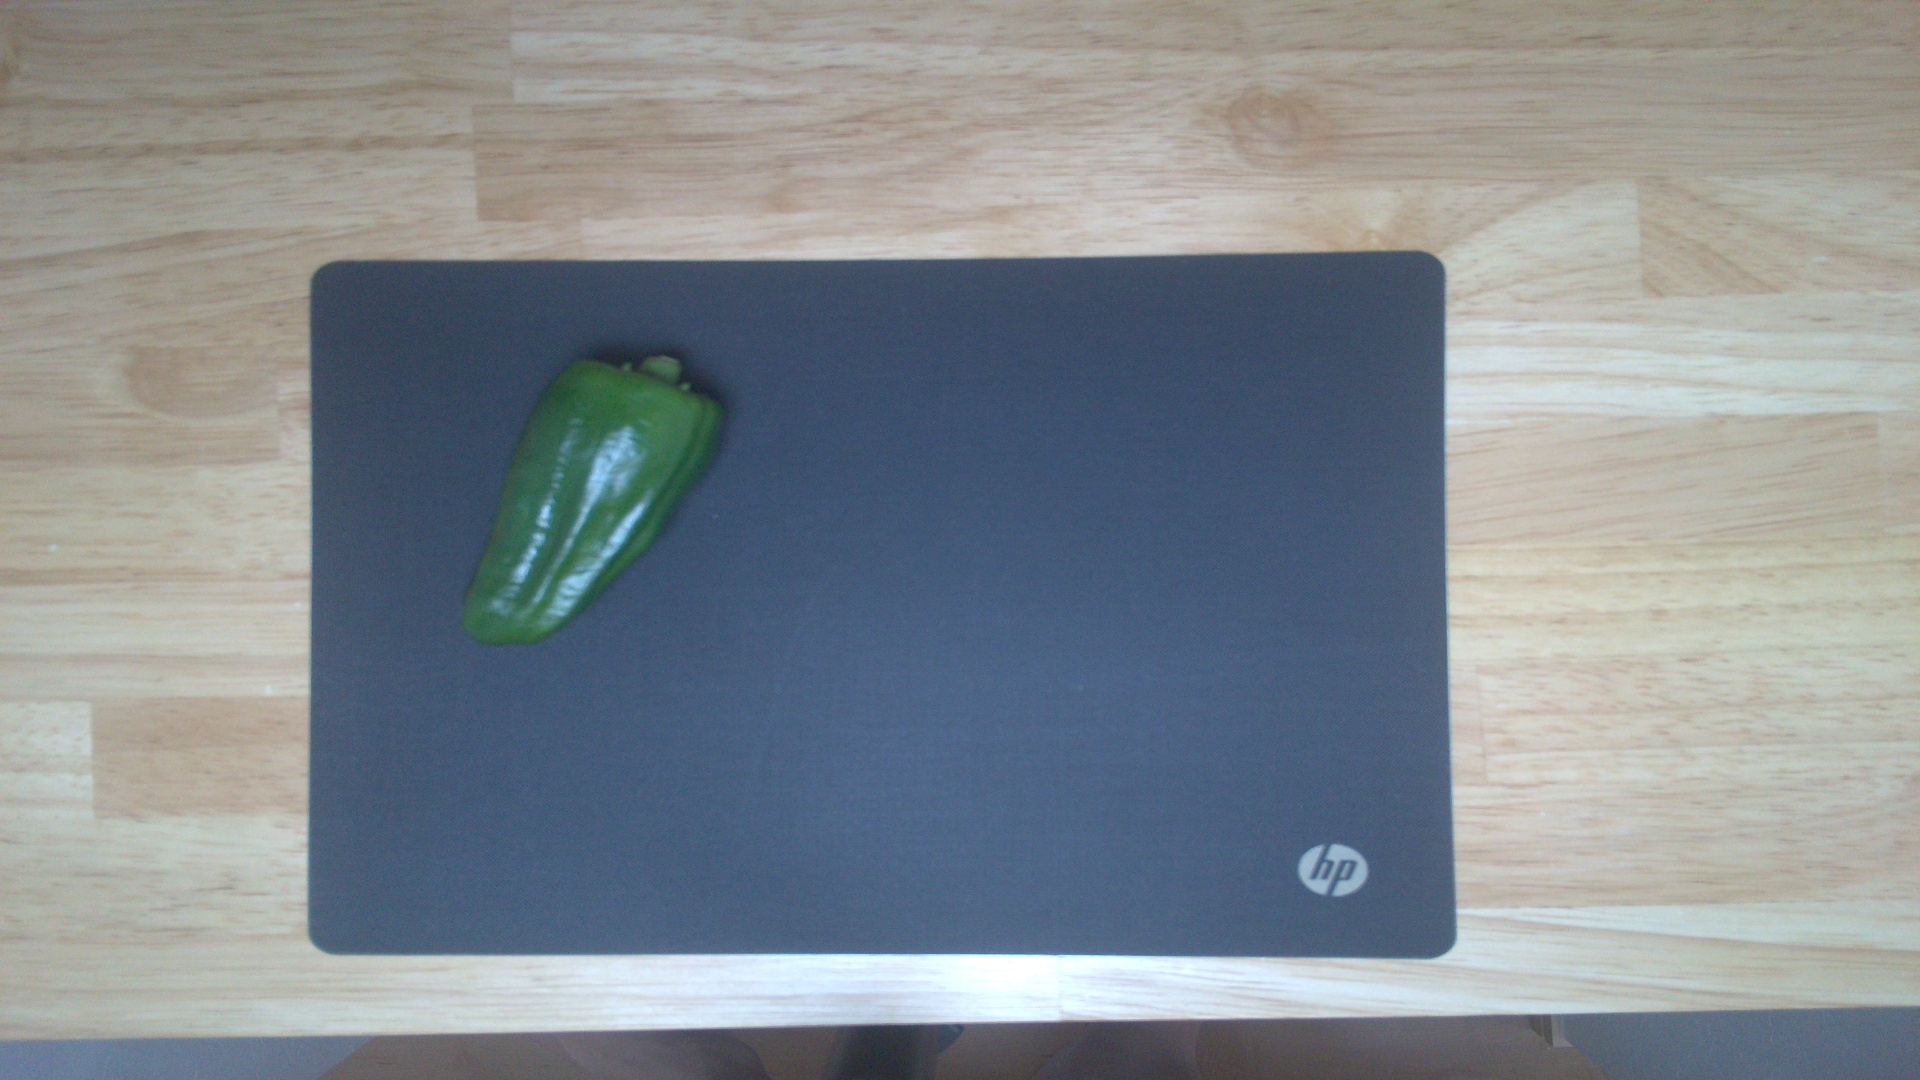Piman: (460, 348, 732, 647)
